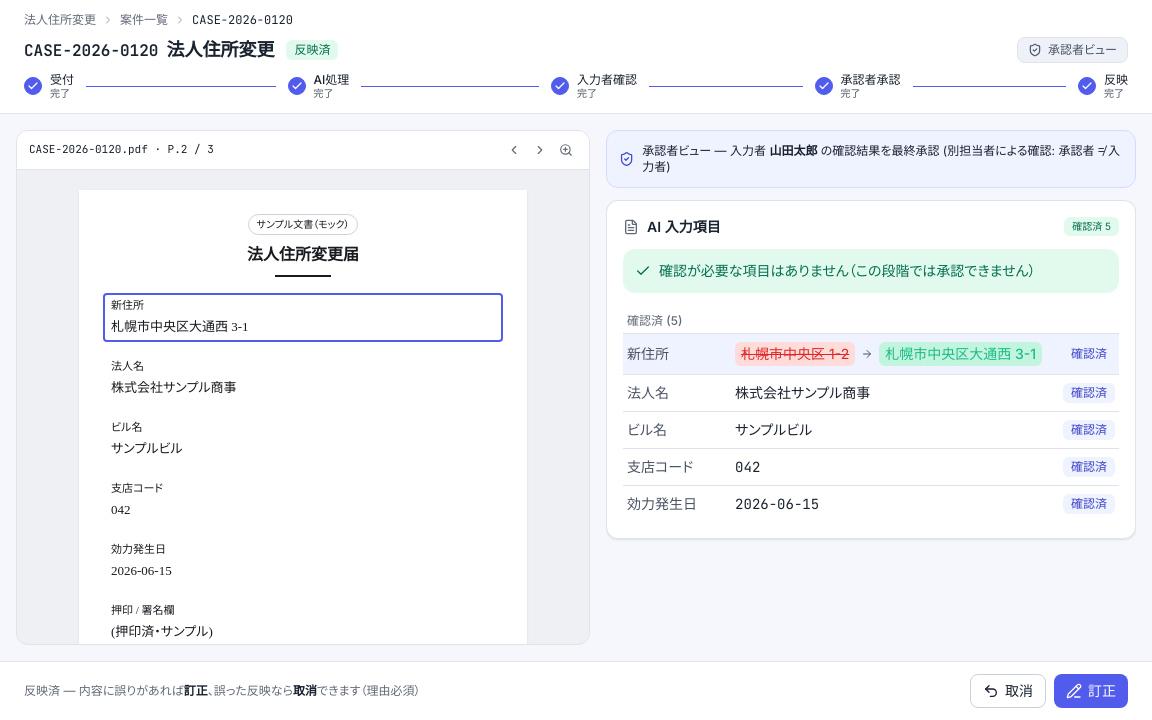
it: W3 C3 reversal: CaseDetail 反映済の訂正/取消 › 取消: reflected→sent-back + reversal banner (取消、理由保持)
Click the button "取消". click: (1008,691)
box: [970,674,1046,708]
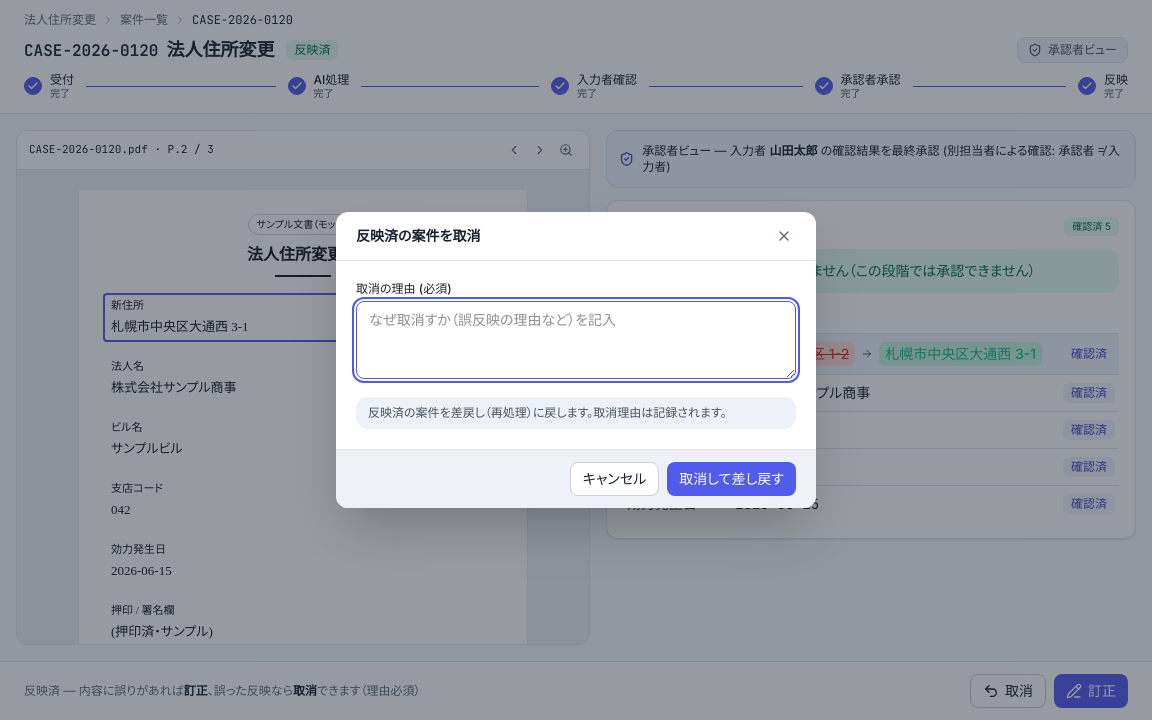
Type "別案件の取り違えで誤って反映" into the text box. click: (576,340)
box: [356,301,796,379]
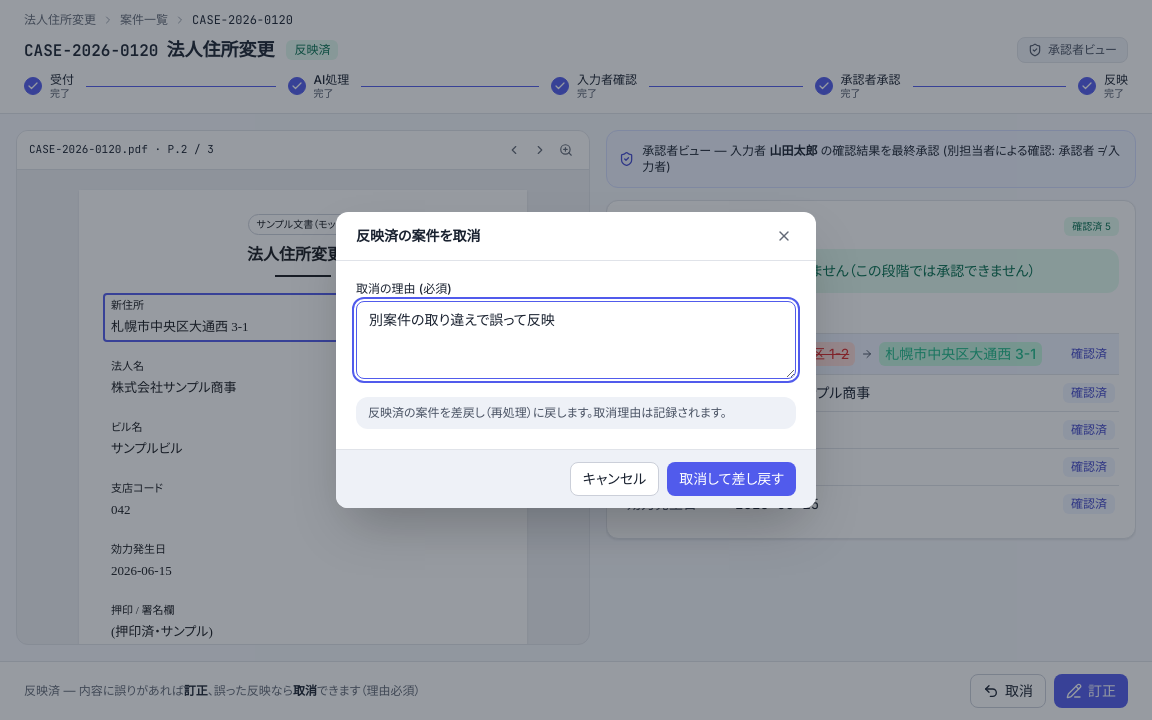
Click the button "取消して差し戻す". click: (732,479)
box: [667,462,796,496]
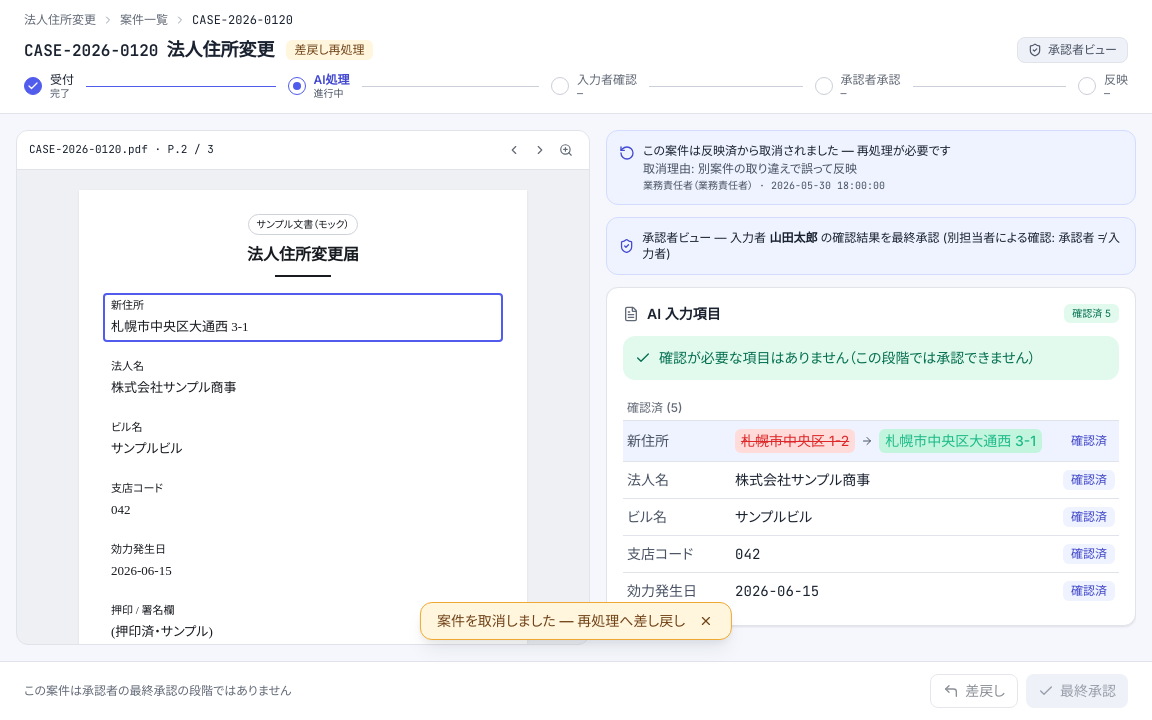
Result: the text "この案件は反映済から取消されました — 再処理が必要です" is shown at [643,142,951,158]
Result: the text "取消理由: 別案件の取り違えで誤って反映" is shown at [643,160,857,176]
